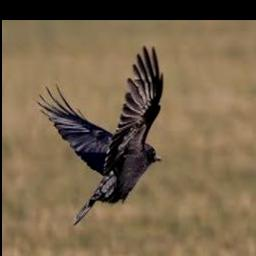Crow: (36, 45, 163, 224)
